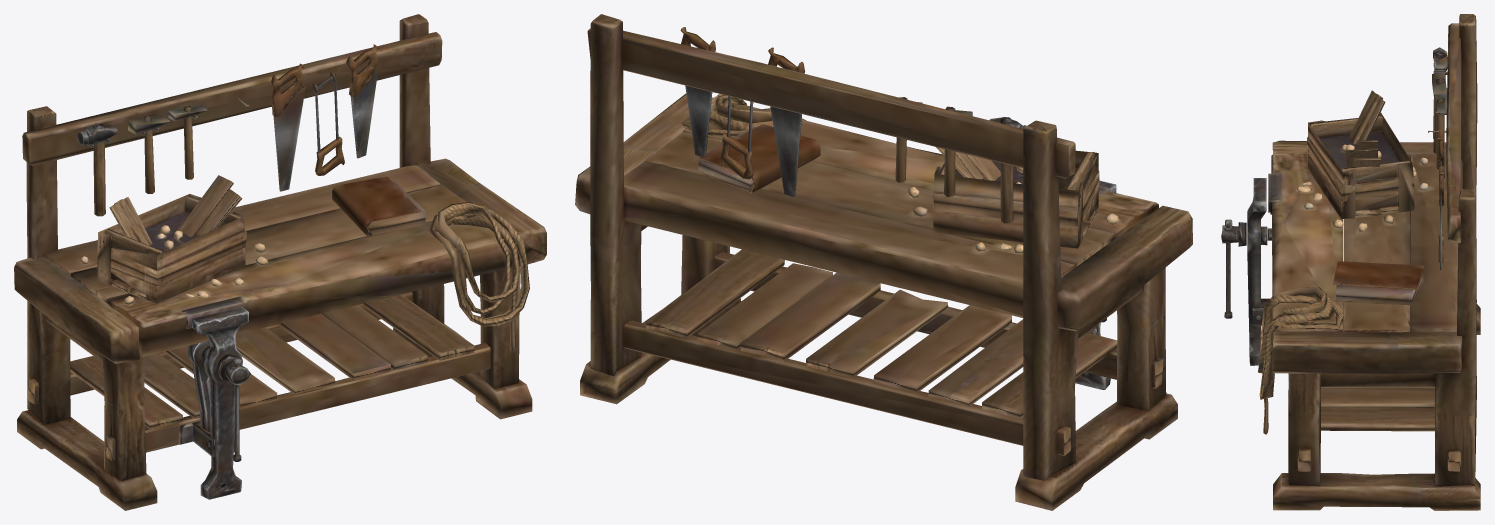
The model's file is workbench.glb.
The picture shows the model from 3 angles, left to right: view 1: azimuth 30°, elevation 25°; view 2: azimuth 150°, elevation 25°; view 3: azimuth 270°, elevation 25°; orthographic projection. The views are drawn at different scales.
Size of the model in its own units: 0.9556 by 0.6777 by 0.5146.
1 material, 1 textured.
